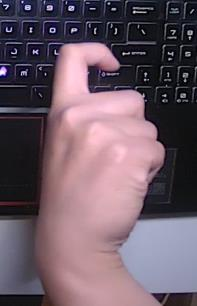anticlockwise: (35, 35, 166, 240)
